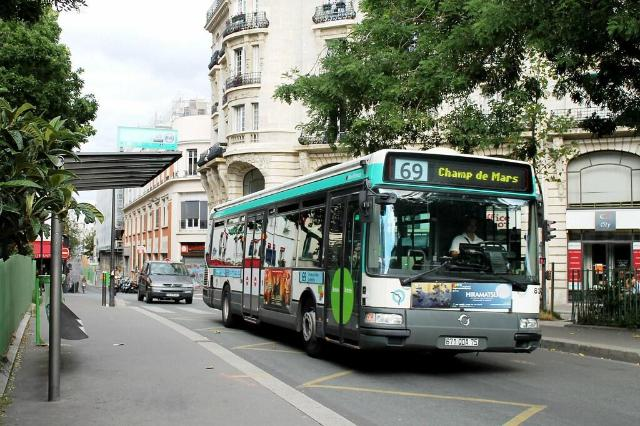bus: (200, 147, 554, 362)
car: (136, 260, 192, 306)
